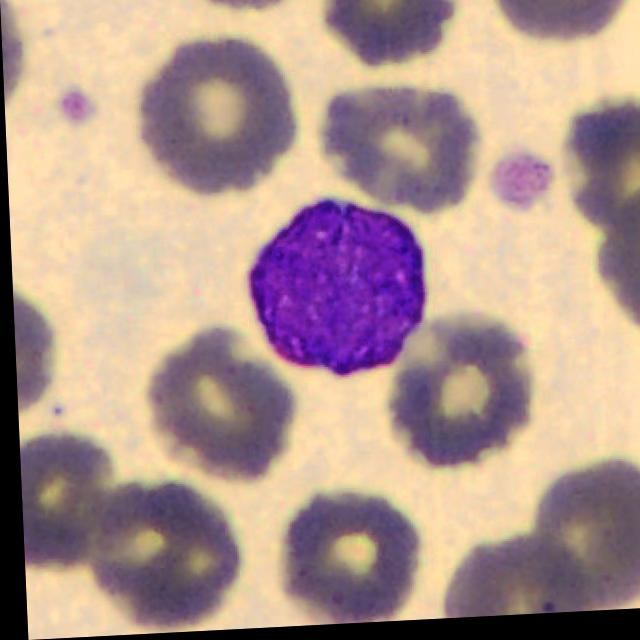Linfocito: (246, 200, 423, 379)
